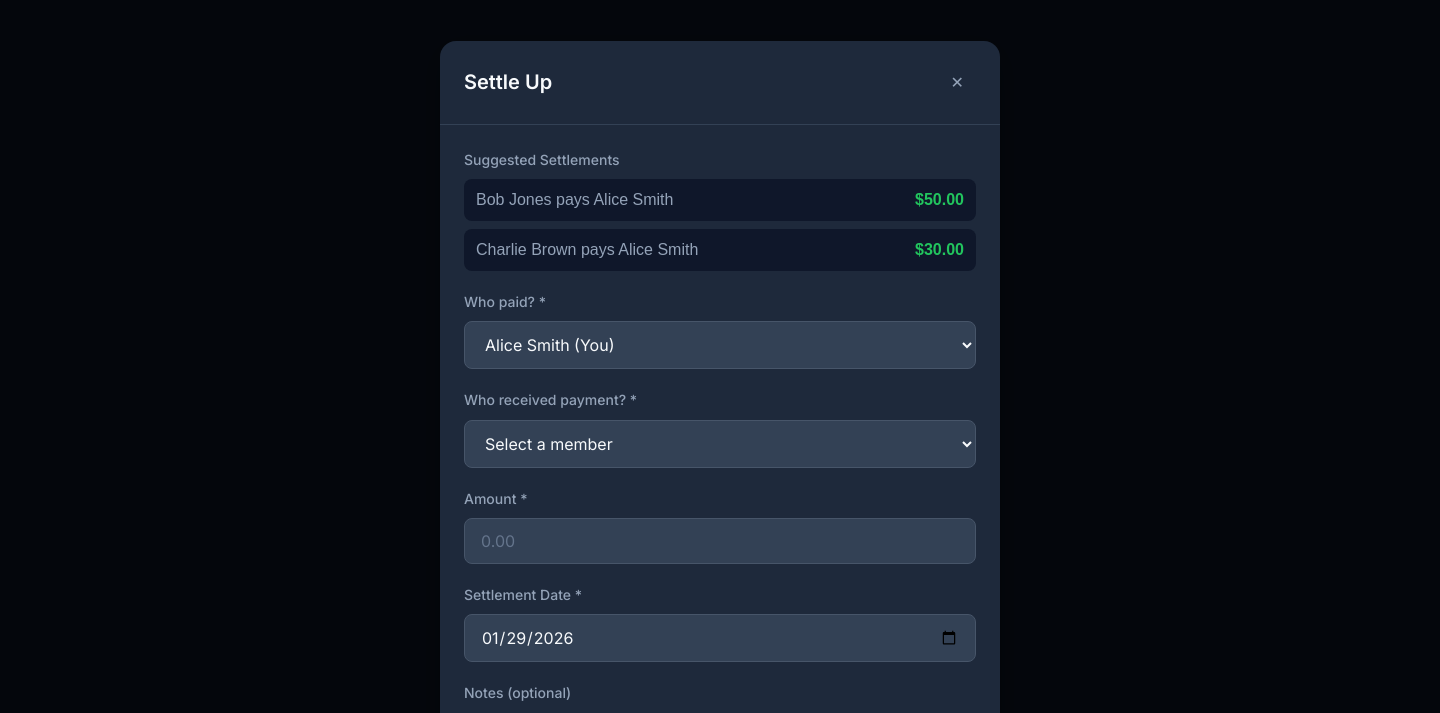
Test: SettleUpModal › applies suggested transaction when clicked
Step 1. Click the button "Bob Jones pays Alice Smith $50.00" → (514, 199), box [464,179,976,221]
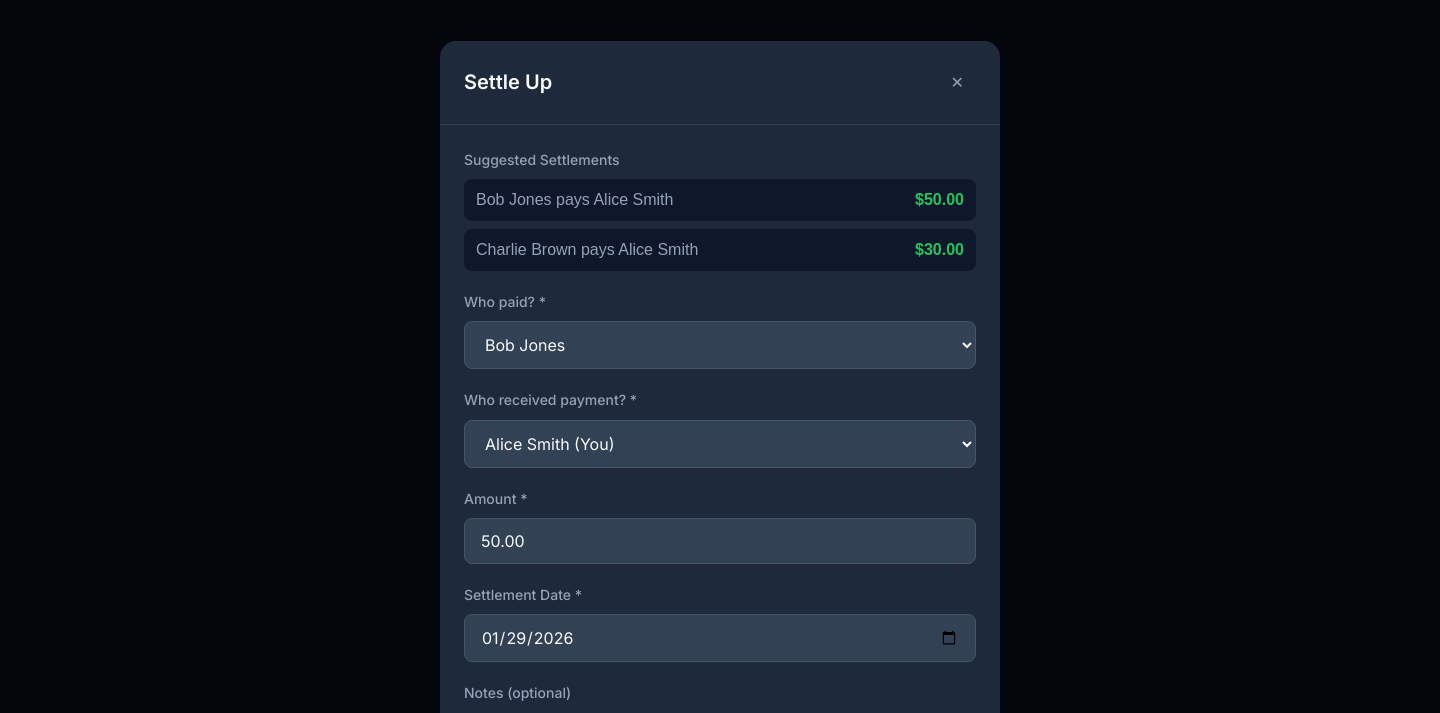
Result: the dropdown labelled "Who paid? *" shows "Bob Jones" at [464,321,976,369]
Result: the dropdown labelled "Who received payment? *" shows "Alice Smith (You)" at [464,420,976,468]
Result: the number field labelled "Amount *" holds "50.00" at [464,518,976,564]
